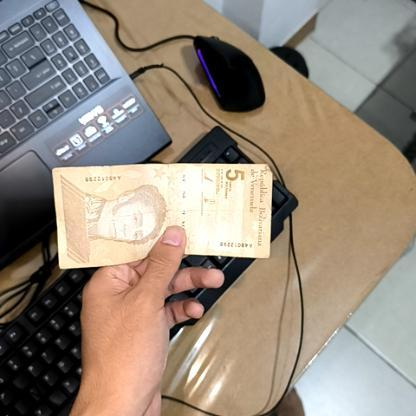five-front-vef: (51, 162, 271, 268)
